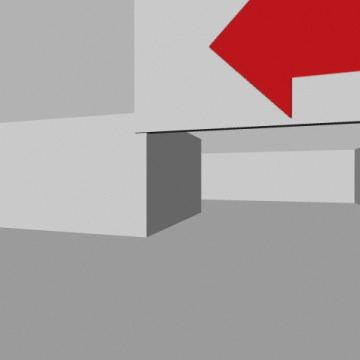red_left: (210, 0, 359, 117)
